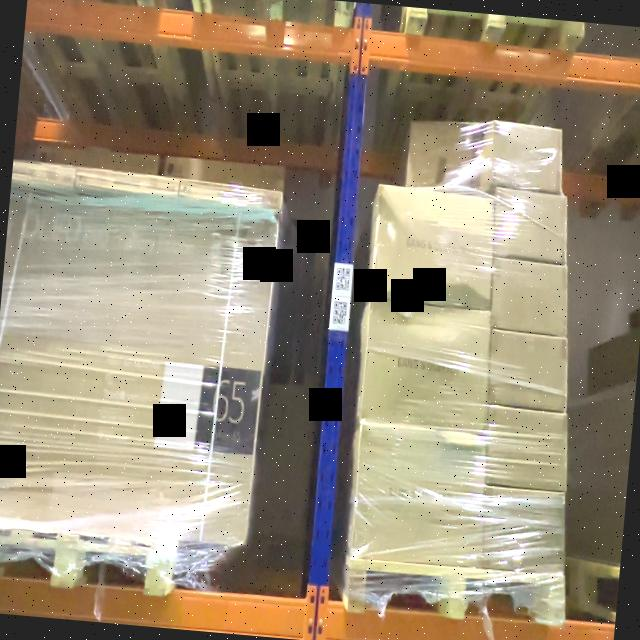box: (352, 428, 486, 564), (360, 306, 490, 428), (371, 185, 495, 307), (482, 494, 563, 570), (488, 333, 568, 407), (488, 411, 564, 486), (493, 262, 569, 330), (493, 192, 567, 260), (491, 124, 562, 190), (177, 178, 281, 210), (76, 165, 176, 196)
